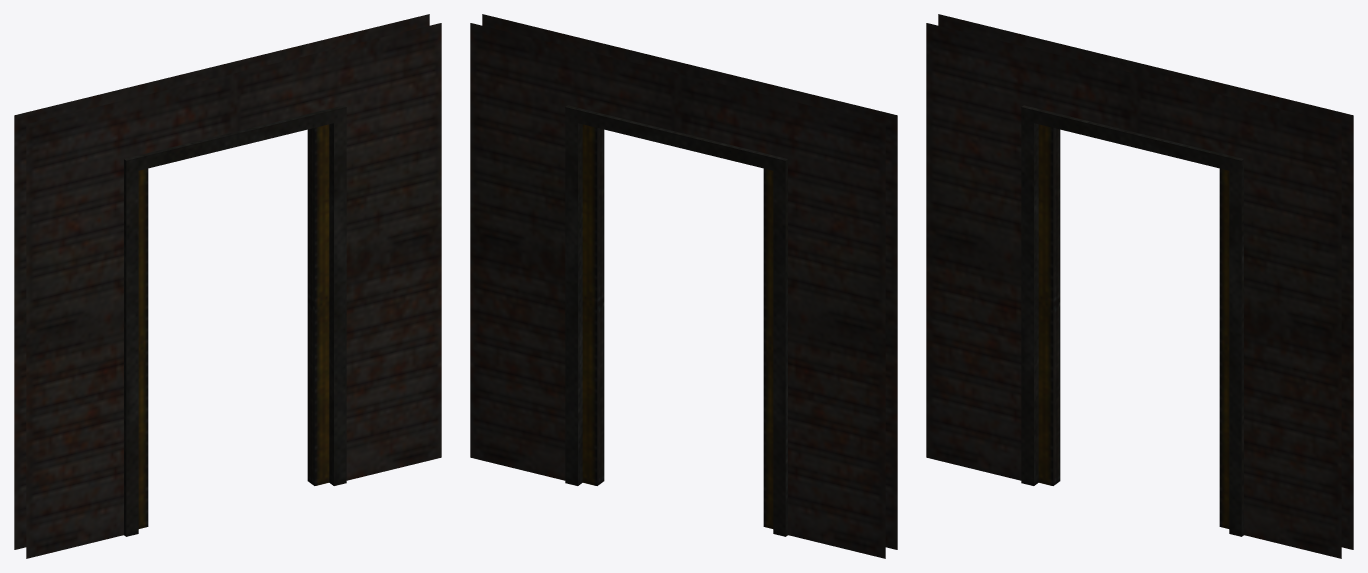
The model's file is doorway_slim_1_2.obj.
3 renders of one model, left to right at view 1: azimuth 30°, elevation 25°; view 2: azimuth 150°, elevation 25°; view 3: azimuth 330°, elevation 25°, orthographic.
Visible parts, largest first — view 1: doorway_slim_1_2, door_slim_1_a, door_slim_1_b; view 2: doorway_slim_1_2, door_slim_1_a, door_slim_1_b; view 3: doorway_slim_1_2, door_slim_1_b, door_slim_1_a.
Boxes of the visible parts, <box> form: doorway_slim_1_2: <box>14,14,441,558</box>; door_slim_1_a: <box>307,124,329,485</box>; door_slim_1_b: <box>138,168,148,528</box>; doorway_slim_1_2: <box>470,14,897,558</box>; door_slim_1_a: <box>582,124,604,485</box>; door_slim_1_b: <box>763,168,773,528</box>; doorway_slim_1_2: <box>926,14,1353,558</box>; door_slim_1_b: <box>1038,124,1060,485</box>; door_slim_1_a: <box>1219,168,1229,528</box>.
Size of the model in its own units: 2 by 2 by 0.14.
